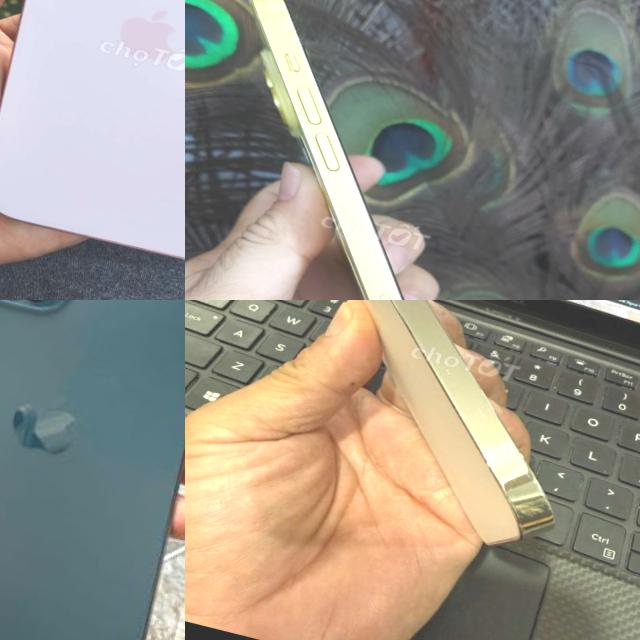gen_12_13: (185, 300, 640, 561), (0, 300, 185, 640)
gen_14: (185, 0, 599, 300)
gen_15: (0, 0, 185, 278)
